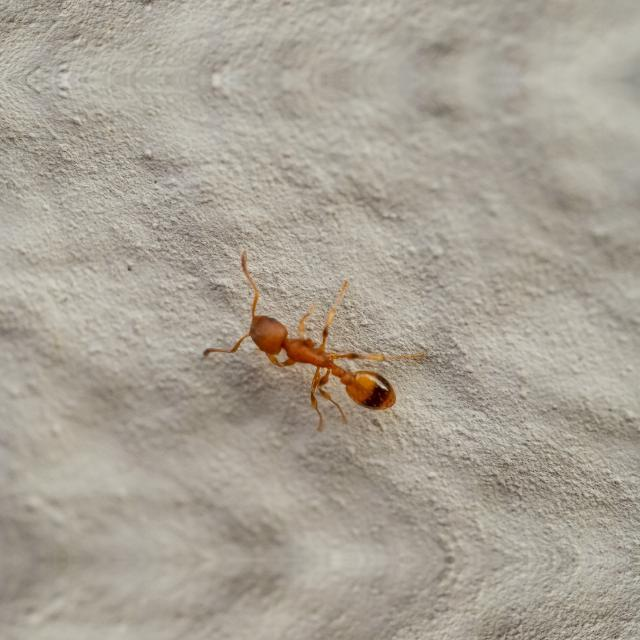Temnothorax: (199, 255, 439, 437)
